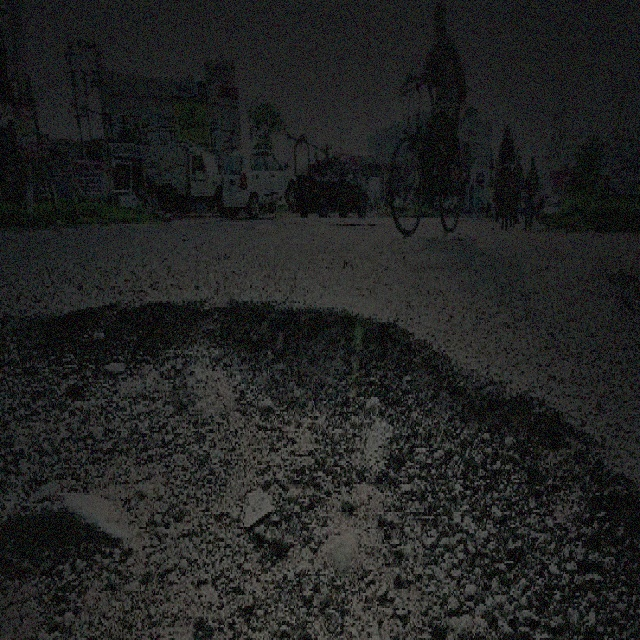pothole: (0, 294, 639, 638)
